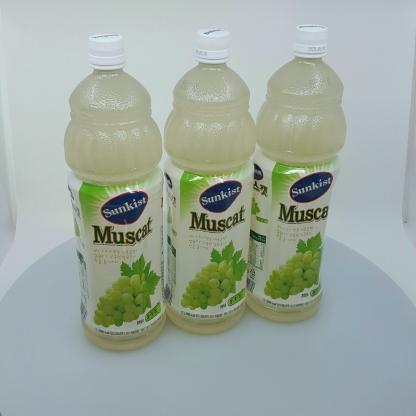-------1-5L: (63, 33, 166, 351), (239, 24, 347, 323), (162, 28, 256, 335)
